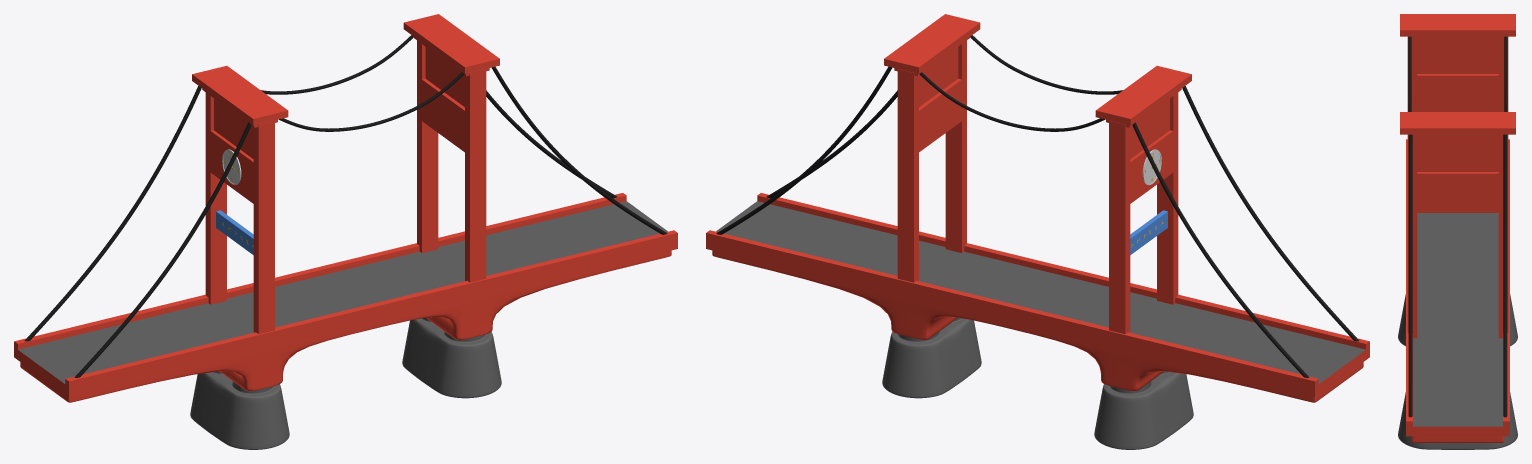
File: PALEMBANG.fbx
3 views of the same model, side by side, from view 1: azimuth 30°, elevation 25°; view 2: azimuth 150°, elevation 25°; view 3: azimuth 270°, elevation 25° (orthographic). The views are drawn at different scales.
Visible parts, largest first — view 1: Cube; view 2: Cube; view 3: Cube.
Part boxes in pixels (<box>): Cube: <box>14,14,677,449</box>; Cube: <box>706,14,1369,449</box>; Cube: <box>1398,14,1517,449</box>.
Bounding box in the file's own units: 442 × 231 × 79.49.
